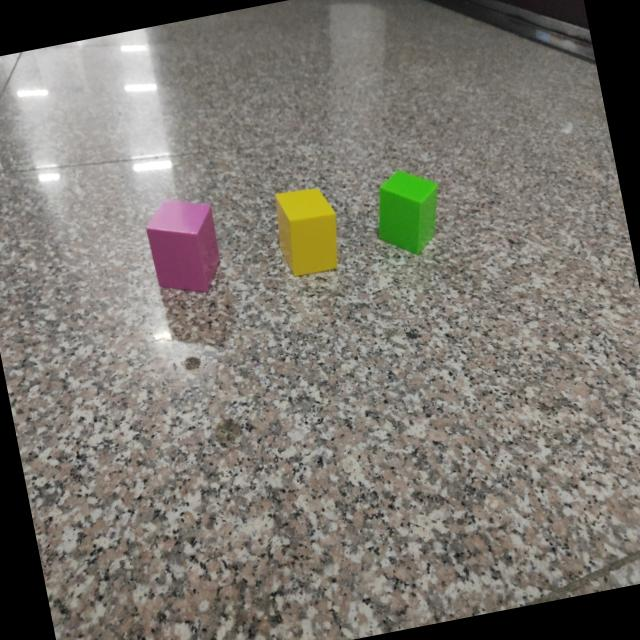green: (377, 173, 439, 255)
pink: (146, 200, 221, 297)
yellow: (275, 187, 339, 279)
